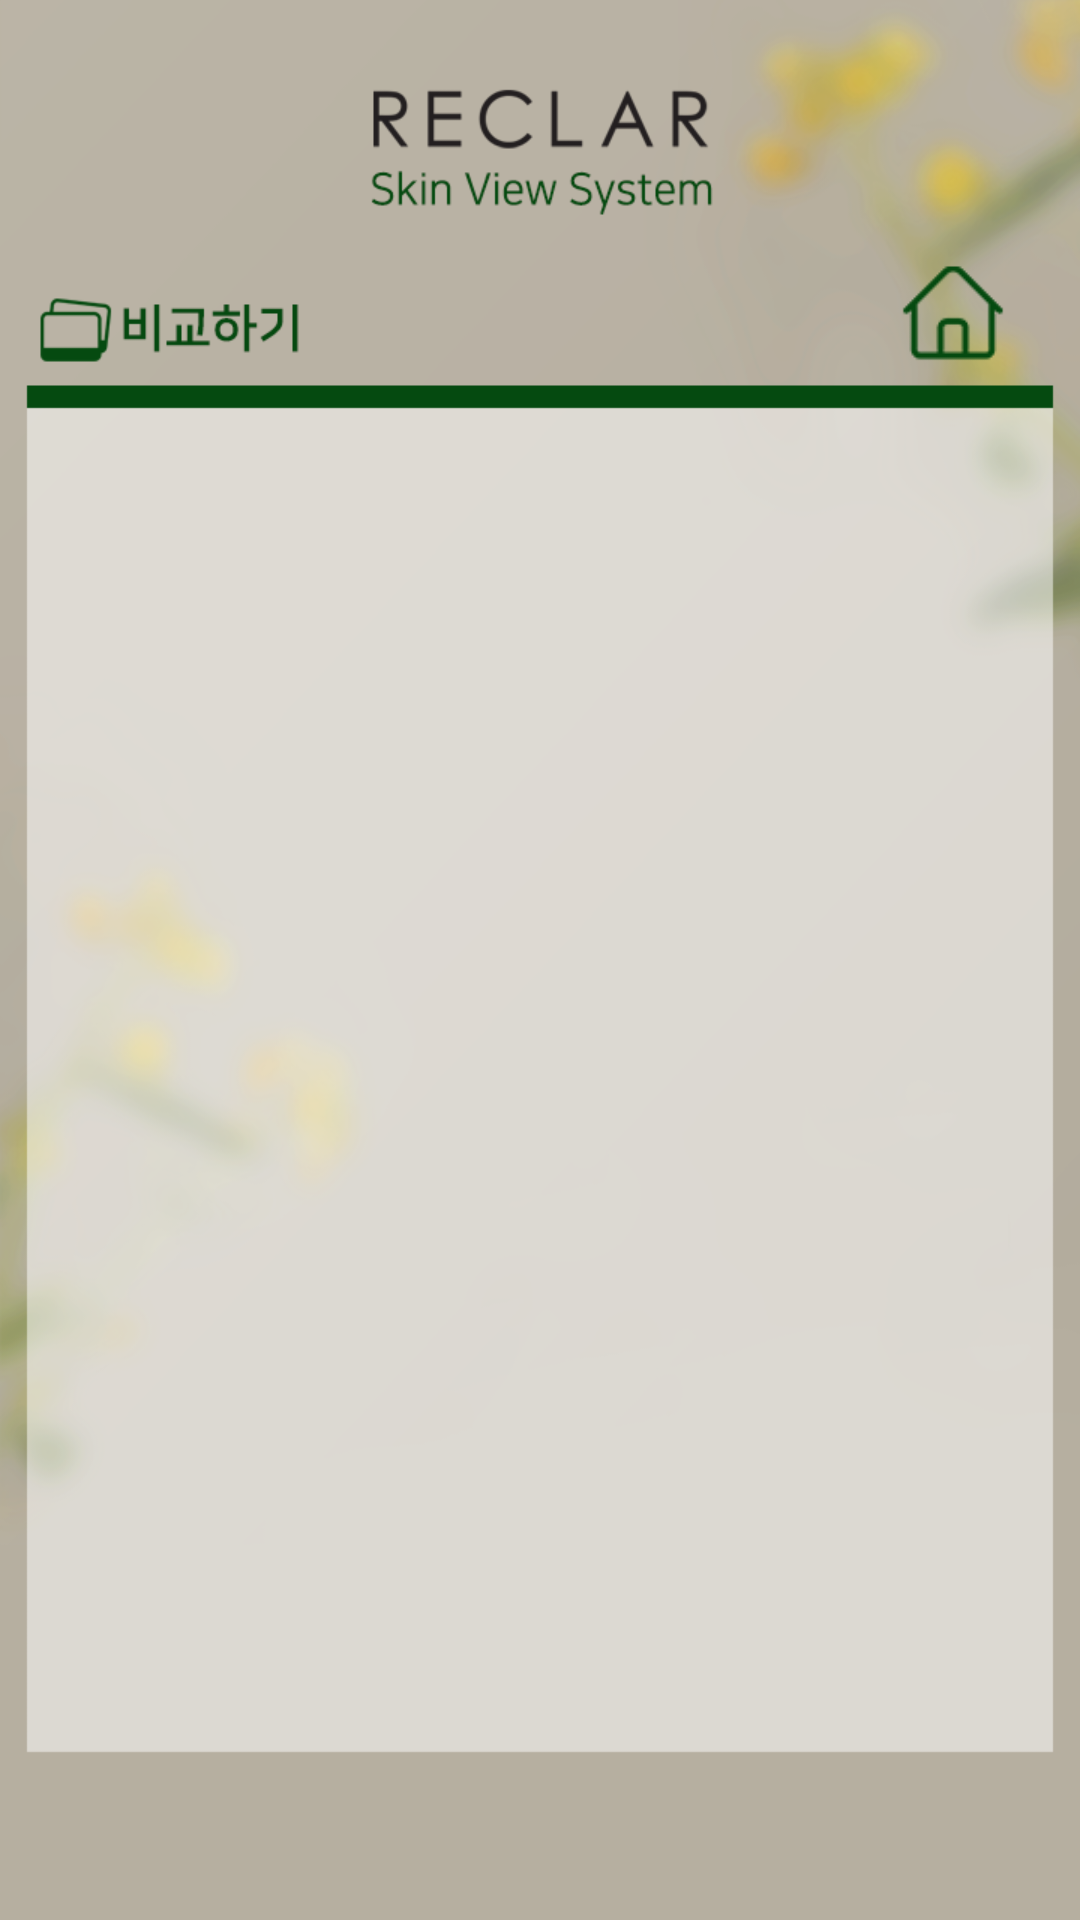

Where to tap for icons on this 1080x1920 app screen, as point (x, y):
home: point (958, 312)
